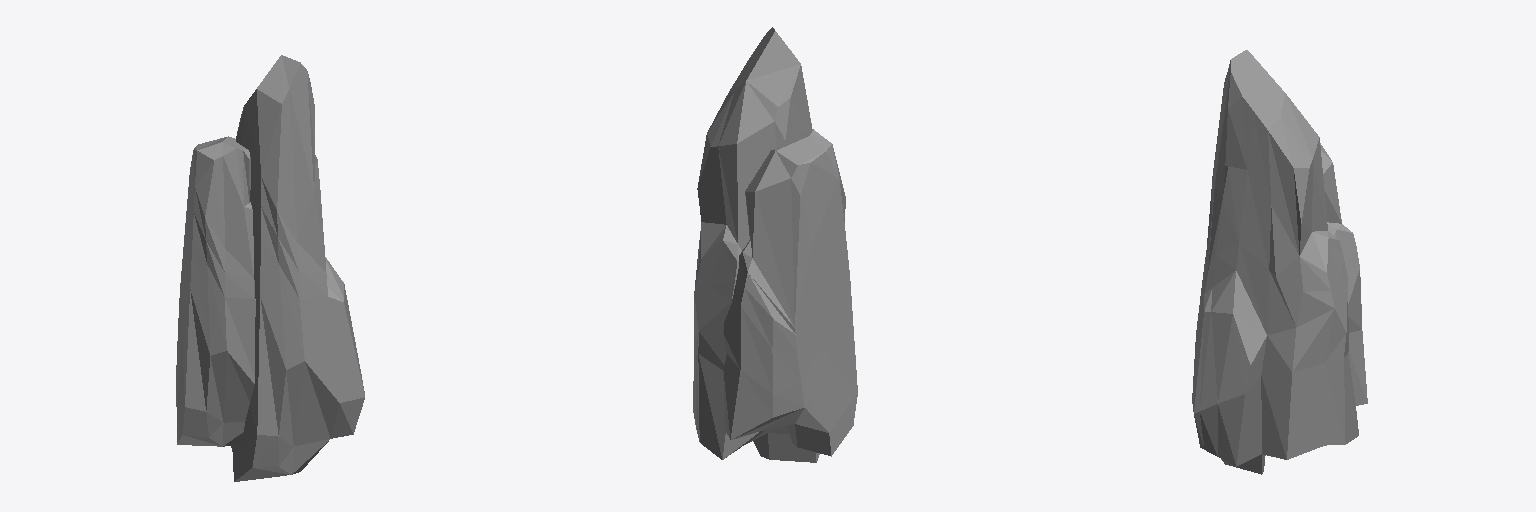
File: Rock_4.obj
3 renders of one model, left to right at view 1: azimuth 30°, elevation 25°; view 2: azimuth 150°, elevation 25°; view 3: azimuth 270°, elevation 25°, orthographic.
Visible parts, largest first — view 1: Rock_4_Cube.009; view 2: Rock_4_Cube.009; view 3: Rock_4_Cube.009.
Boxes of the visible parts, x1=… form: Rock_4_Cube.009: x1=176, y1=55, x2=364, y2=481; Rock_4_Cube.009: x1=693, y1=27, x2=857, y2=462; Rock_4_Cube.009: x1=1192, y1=50, x2=1367, y2=474.
Bounding box in the file's own units: 0.8592 × 2.15 × 0.8124.